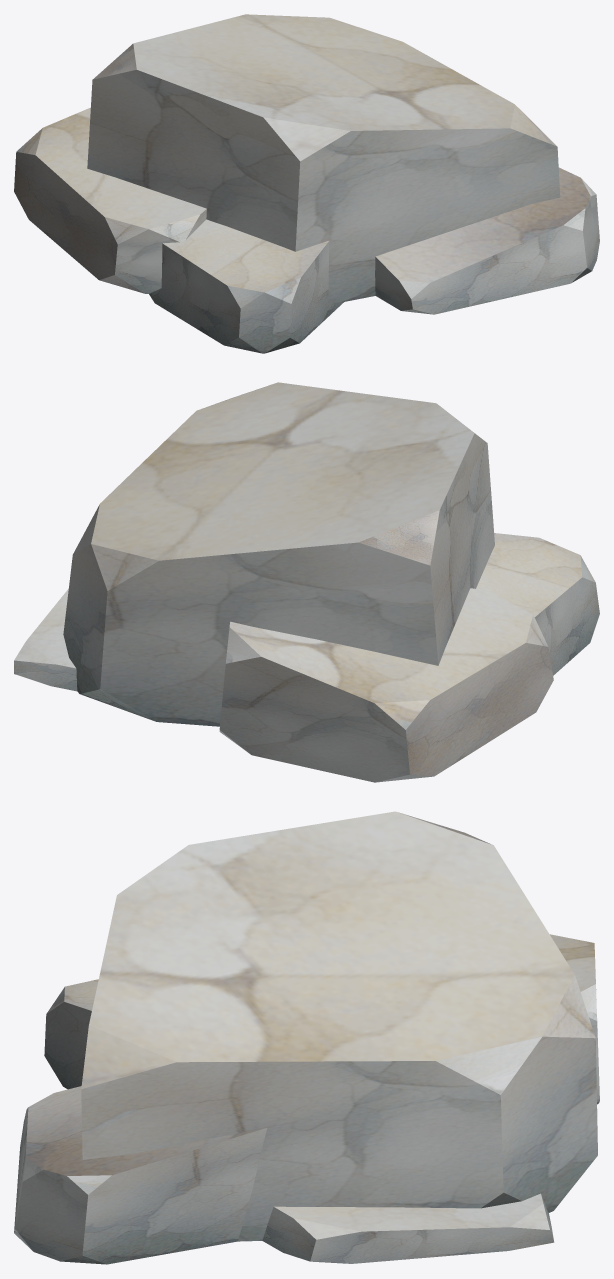
Rendered from rockforest001.glb.
3 renders of one model, top to bottom at view 1: azimuth 30°, elevation 25°; view 2: azimuth 150°, elevation 25°; view 3: azimuth 270°, elevation 25°, orthographic. The views are drawn at different scales.
Visible parts, largest first — view 1: rockForest001.001; view 2: rockForest001.001; view 3: rockForest001.001.
Boxes of the visible parts, left/top/right/bottom form: rockForest001.001: left=14, top=14, right=599, bottom=353; rockForest001.001: left=14, top=382, right=599, bottom=782; rockForest001.001: left=14, top=811, right=599, bottom=1264.
Bounding box in the file's own units: 0.8778 × 0.394 × 0.8329.
1 material, 1 textured.
